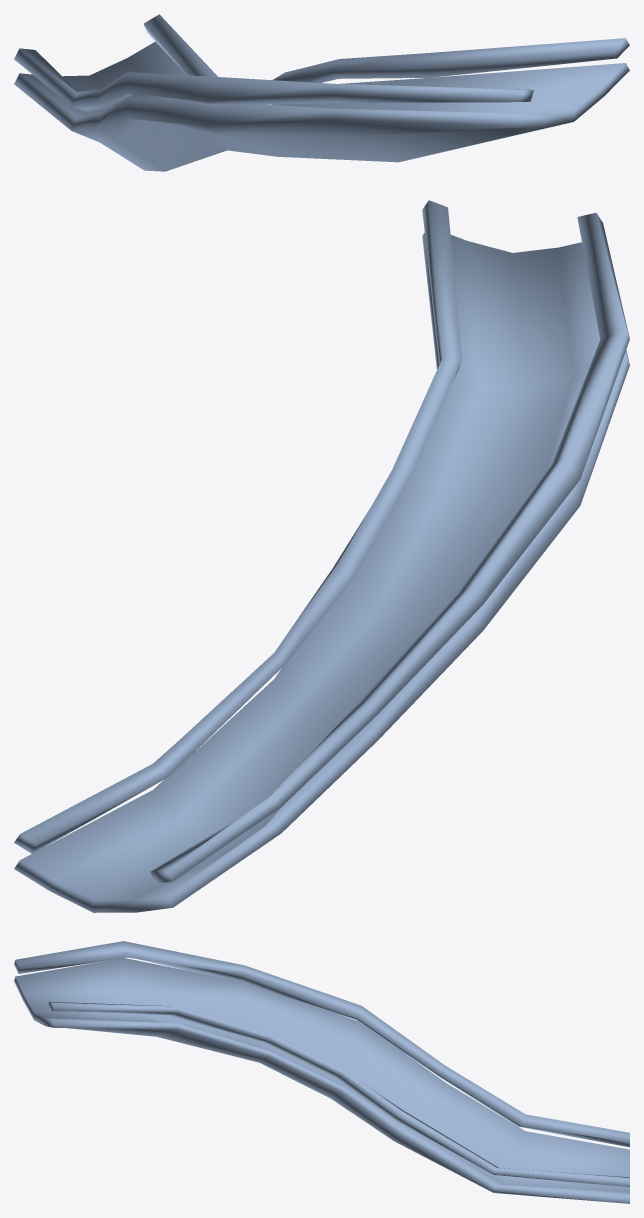
The model's file is junRoadShortSlope2p5_20.fbx.
3 views of the same model, one above another, from view 1: azimuth 30°, elevation 25°; view 2: azimuth 150°, elevation 25°; view 3: azimuth 270°, elevation 25° (orthographic). The views are drawn at different scales.
Visible parts, largest first — view 1: junRoadShortSlope2p5_20_LOD0, junRoadShortSlope2p5_20_edge_LOD0; view 2: junRoadShortSlope2p5_20_LOD0, junRoadShortSlope2p5_20_edge_LOD0; view 3: junRoadShortSlope2p5_20_LOD0, junRoadShortSlope2p5_20_edge_LOD0.
Part boxes in pixels (<box>): junRoadShortSlope2p5_20_LOD0: <box>14,41,629,171</box>; junRoadShortSlope2p5_20_edge_LOD0: <box>14,14,629,111</box>; junRoadShortSlope2p5_20_LOD0: <box>14,233,629,912</box>; junRoadShortSlope2p5_20_edge_LOD0: <box>14,200,629,883</box>; junRoadShortSlope2p5_20_LOD0: <box>14,958,629,1203</box>; junRoadShortSlope2p5_20_edge_LOD0: <box>14,941,629,1186</box>.
Size of the model in its own units: 604 by 686 by 1662.
